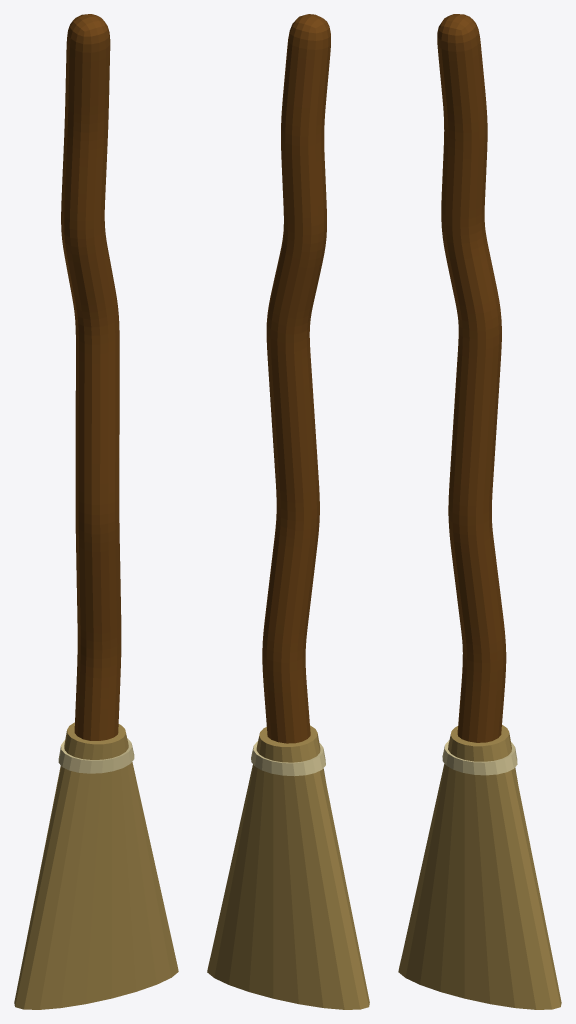
File: Broomstick.fbx
The picture shows the model from 3 angles, left to right: view 1: azimuth 30°, elevation 25°; view 2: azimuth 150°, elevation 25°; view 3: azimuth 330°, elevation 25°; orthographic projection.
Visible parts, largest first — view 1: Broomstick 1; view 2: Broomstick 1; view 3: Broomstick 1.
Part boxes in pixels (x1,y1,x2,y2): Broomstick 1: [14, 14, 178, 1009]; Broomstick 1: [207, 14, 369, 1009]; Broomstick 1: [398, 14, 561, 1009].
Bounding box in the file's own units: 50.01 × 287 × 18.4.
